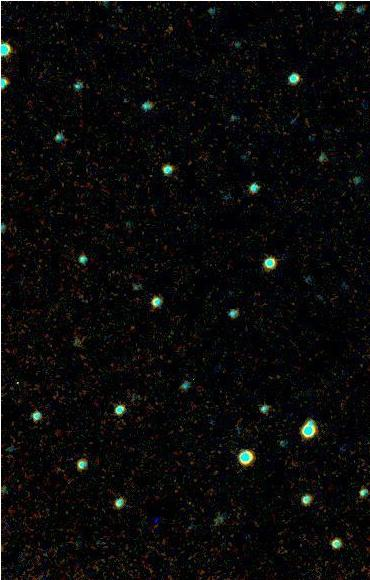star: (155, 15, 185, 45)
